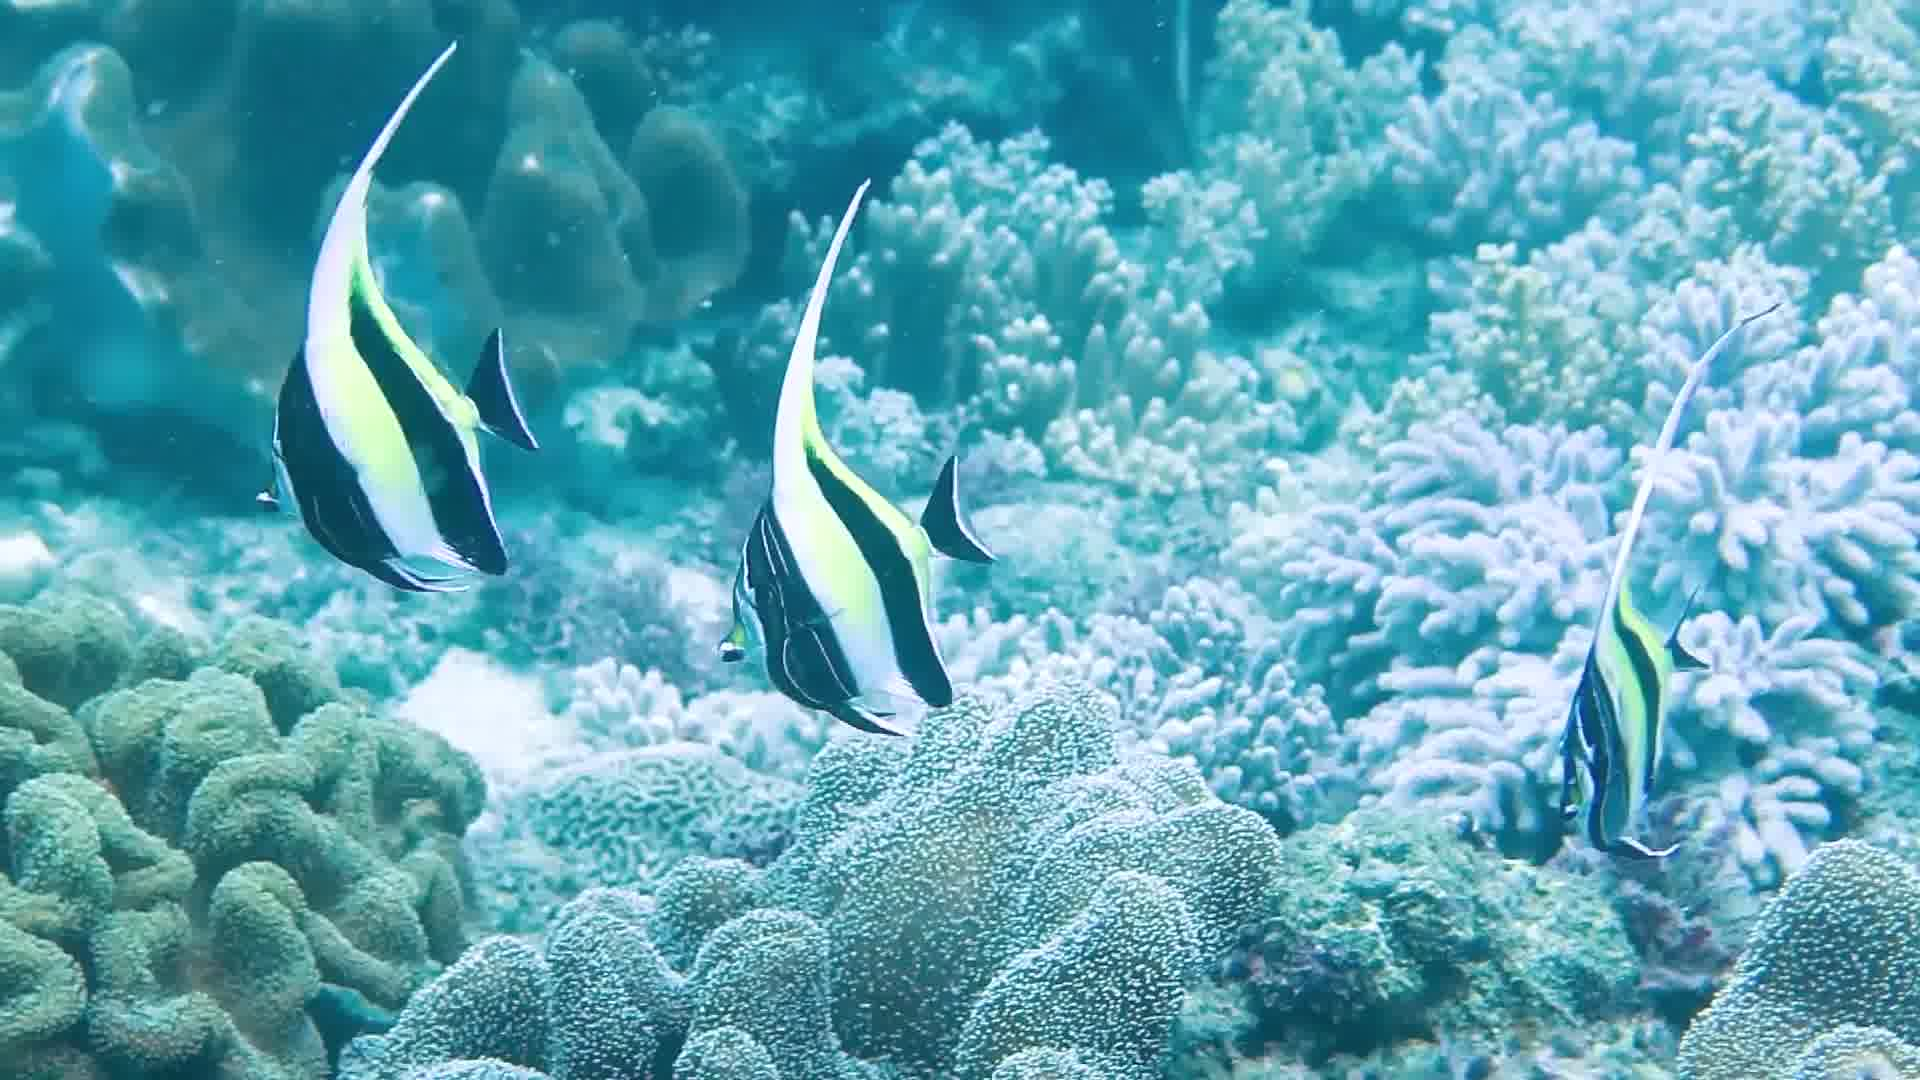Zanclus cornutus: (229, 241, 576, 603), (687, 385, 1001, 733)
